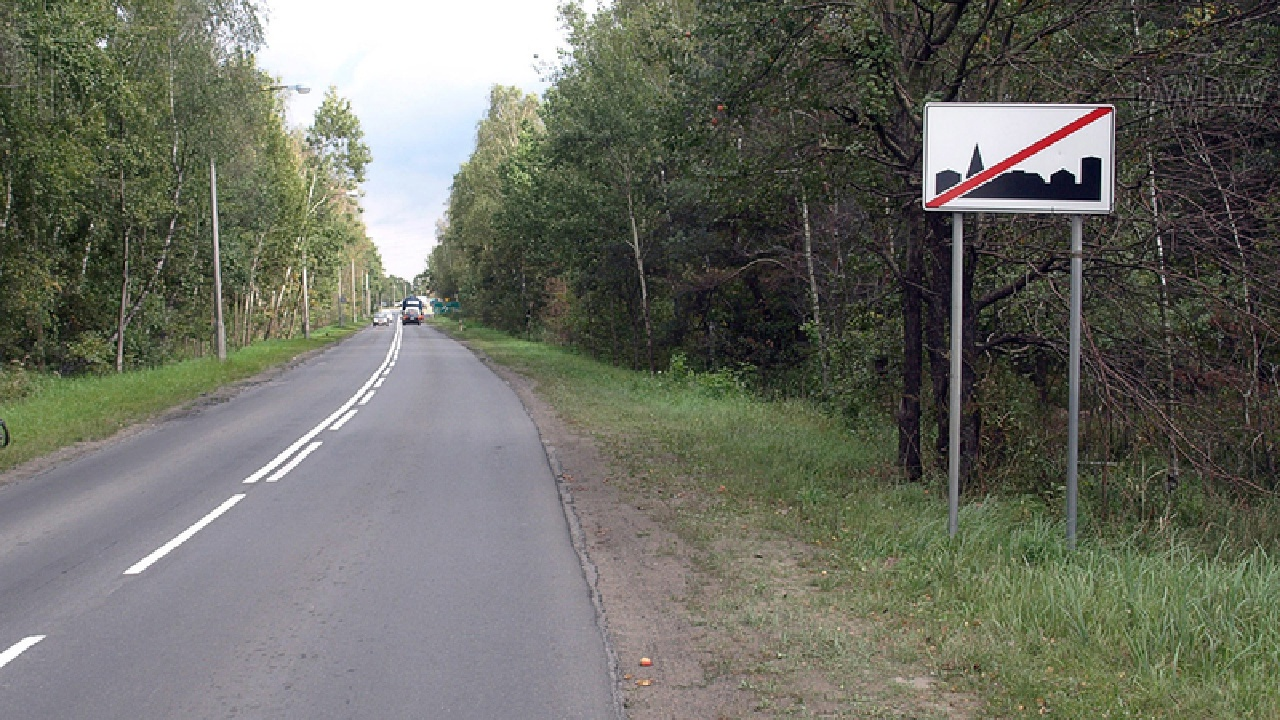D43: (924, 99, 1115, 217)
